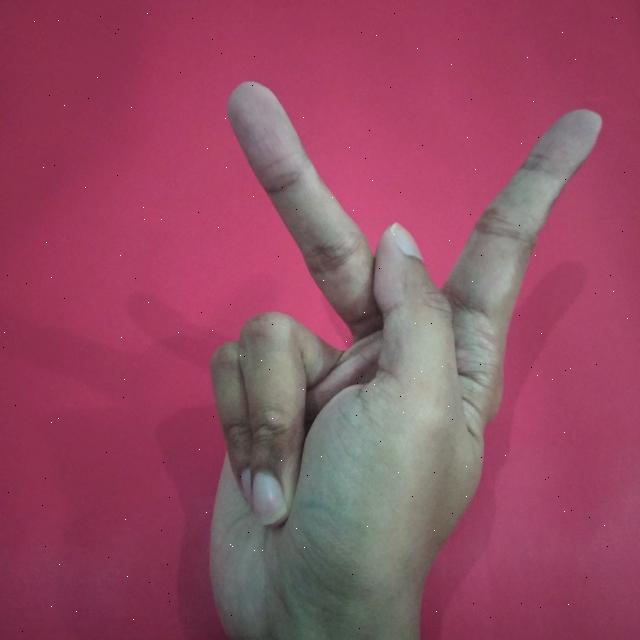K: (203, 69, 609, 640)
